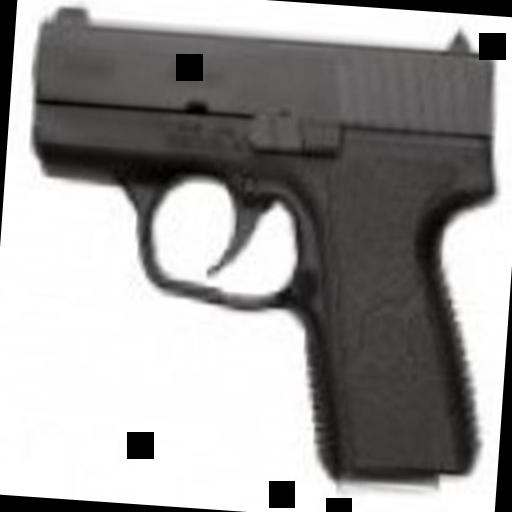Handgun: (6, 0, 507, 497)
